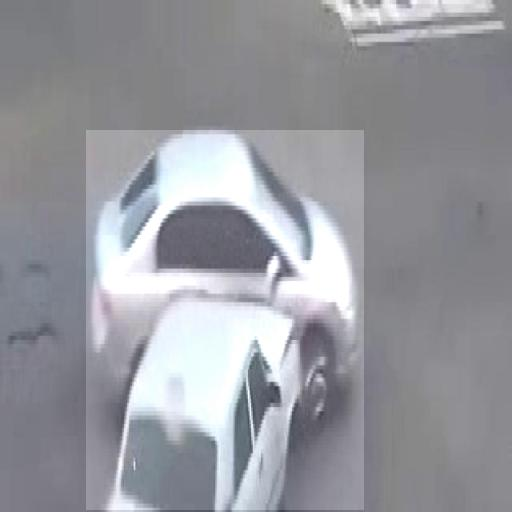小汽车撞小汽车: (86, 130, 364, 510)
